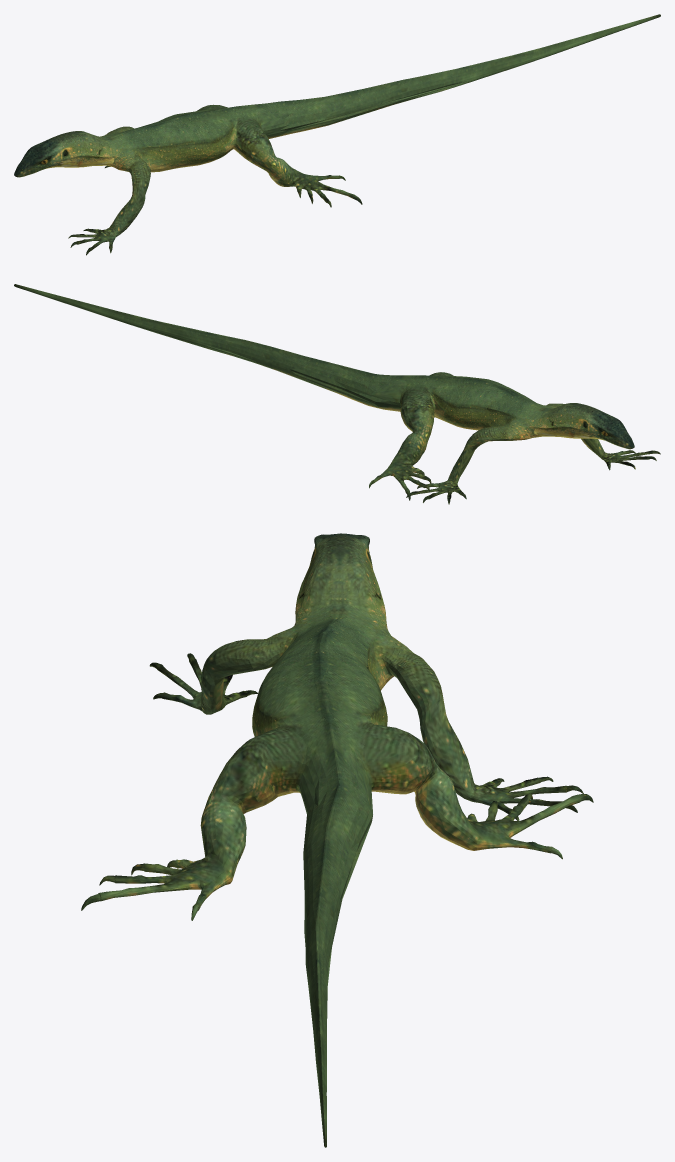
The model's file is Lizard-bl.obj.
3 renders of one model, top to bottom at view 1: azimuth 30°, elevation 25°; view 2: azimuth 150°, elevation 25°; view 3: azimuth 270°, elevation 25°, orthographic. The views are drawn at different scales.
Visible parts, largest first — view 1: Lizard; view 2: Lizard; view 3: Lizard.
Boxes of the visible parts, x1,y1,x2,y2 form: Lizard: (14,14,660,255); Lizard: (14,284,660,504); Lizard: (81,533,593,1147).
Bounding box in the file's own units: 27.43 × 3.44 × 9.75.
1 material, 1 textured.
